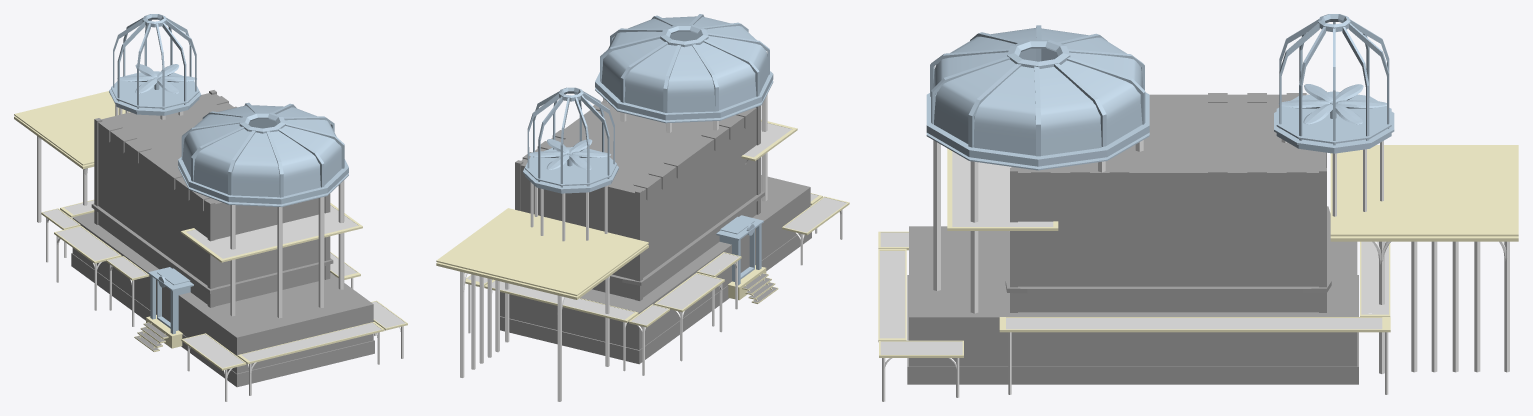
File: Research_substance.fbx
The picture shows the model from 3 angles, left to right: view 1: azimuth 30°, elevation 25°; view 2: azimuth 150°, elevation 25°; view 3: azimuth 270°, elevation 25°; orthographic projection. The views are drawn at different scales.
Visible parts, largest first — view 1: pCube1, pCube2, pPlane14 (×4), pCube34, pCube36, pPlane9, pPlane8, pPlane10, pCylinder3, pCube62 (×2), pCylinder1, pPlane7 (+19 smaller); view 2: pCube1, pCube34, pCube2, pCube36, pPlane14 (×3), pPlane2, pPlane3, pPlane1, pCylinder3, pCylinder1, pPlane4, pPlane10 (+23 smaller); view 3: pCube1, pCube2, pCube34, pPlane14 (×5), pCube36, pPlane6, pPlane5, pCube62 (×2), pCylinder3, pCylinder1, pPlane4, pPlane7 (+23 smaller).
Boxes of the visible parts, left/top/right/bottom form: pCube1: left=91, top=93, right=333, bottom=306; pCube2: left=72, top=212, right=373, bottom=373; pPlane14 (×4): left=183, top=205, right=405, bottom=367; pCube34: left=14, top=91, right=130, bottom=165; pCube36: left=71, top=253, right=374, bottom=387; pPlane9: left=232, top=132, right=279, bottom=197; pPlane8: left=270, top=131, right=320, bottom=196; pPlane10: left=193, top=128, right=250, bottom=194; pCylinder3: left=111, top=71, right=199, bottom=108; pCube62 (×2): left=180, top=203, right=384, bottom=364; pCylinder1: left=178, top=157, right=348, bottom=204; pPlane7: left=281, top=126, right=341, bottom=185; pCube1: left=520, top=101, right=764, bottom=299; pCube34: left=436, top=208, right=648, bottom=295; pCube2: left=500, top=175, right=810, bottom=349; pCube36: left=500, top=232, right=811, bottom=364; pPlane14 (×3): left=492, top=121, right=846, bottom=319; pPlane2: left=667, top=45, right=716, bottom=112; pPlane3: left=624, top=44, right=676, bottom=111; pPlane1: left=696, top=42, right=756, bottom=110; pCylinder3: left=525, top=147, right=616, bottom=185; pCylinder1: left=595, top=71, right=773, bottom=120; pPlane4: left=601, top=39, right=664, bottom=100; pPlane10: left=706, top=36, right=768, bottom=93; pCube1: left=1005, top=93, right=1331, bottom=312; pCube2: left=909, top=226, right=1357, bottom=366; pCube34: left=1330, top=145, right=1518, bottom=236; pPlane14 (×5): left=879, top=151, right=1388, bottom=354; pCube36: left=907, top=275, right=1358, bottom=384; pPlane6: left=973, top=66, right=1035, bottom=155; pPlane5: left=1039, top=67, right=1101, bottom=155; pCube62 (×2): left=947, top=148, right=1390, bottom=332; pCylinder3: left=1276, top=91, right=1391, bottom=143; pCylinder1: left=926, top=92, right=1149, bottom=166; pPlane4: left=1061, top=60, right=1142, bottom=145; pPlane7: left=934, top=59, right=1015, bottom=143.
Size of the model in its own units: 13.84 by 16.71 by 29.62.
